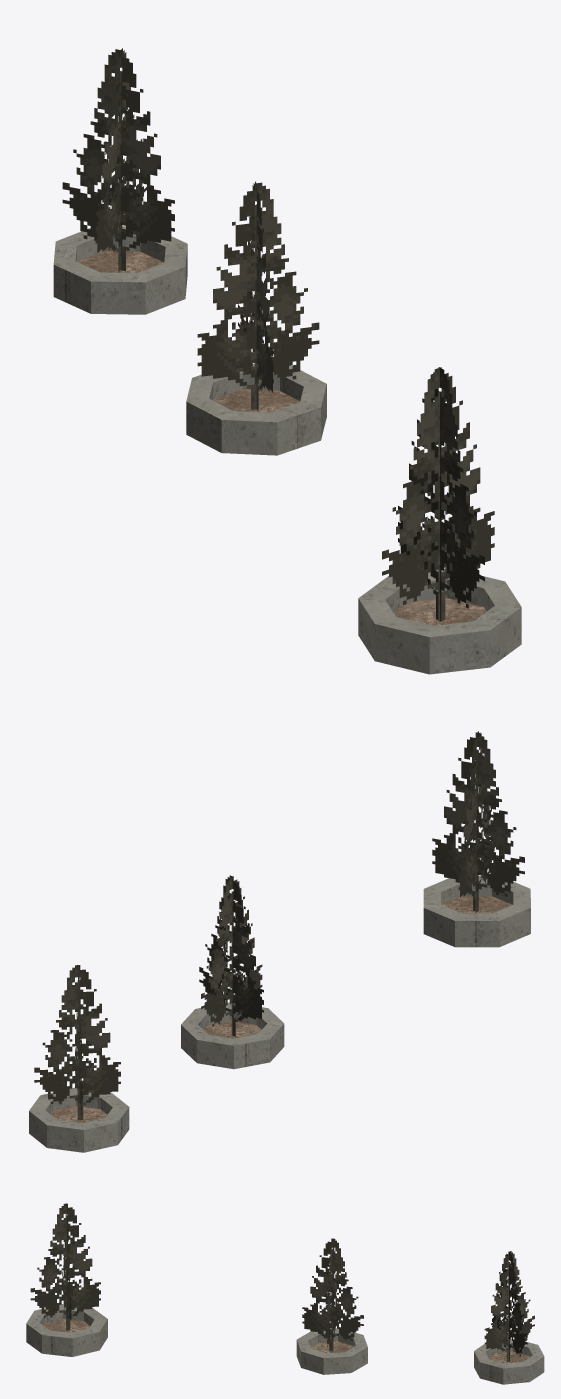
File: procgen-procpain-tree-park-pine-large-x2z1.obj
3 views of the same model, one above another, from view 1: azimuth 30°, elevation 25°; view 2: azimuth 150°, elevation 25°; view 3: azimuth 270°, elevation 25° (orthographic). The views are drawn at different scales.
Bounding box in the file's own units: 11.24 × 10.44 × 37.04.
